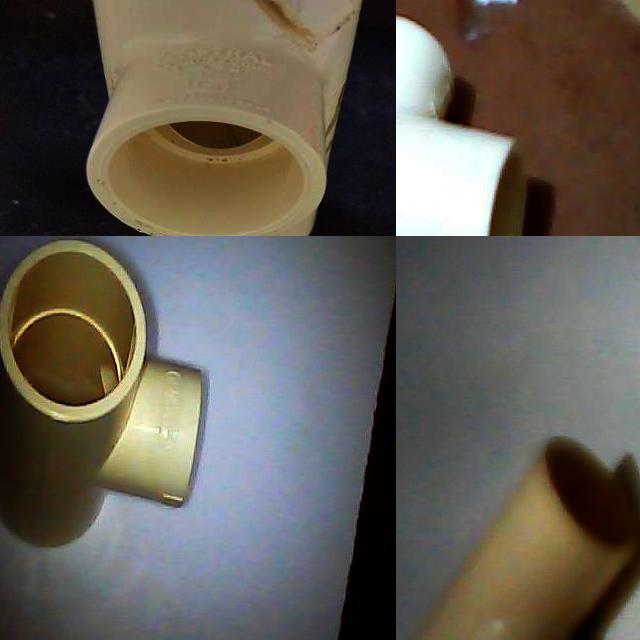Defective: (210, 0, 343, 71)
T Joint: (0, 240, 210, 551), (417, 439, 640, 640), (396, 16, 538, 236)
